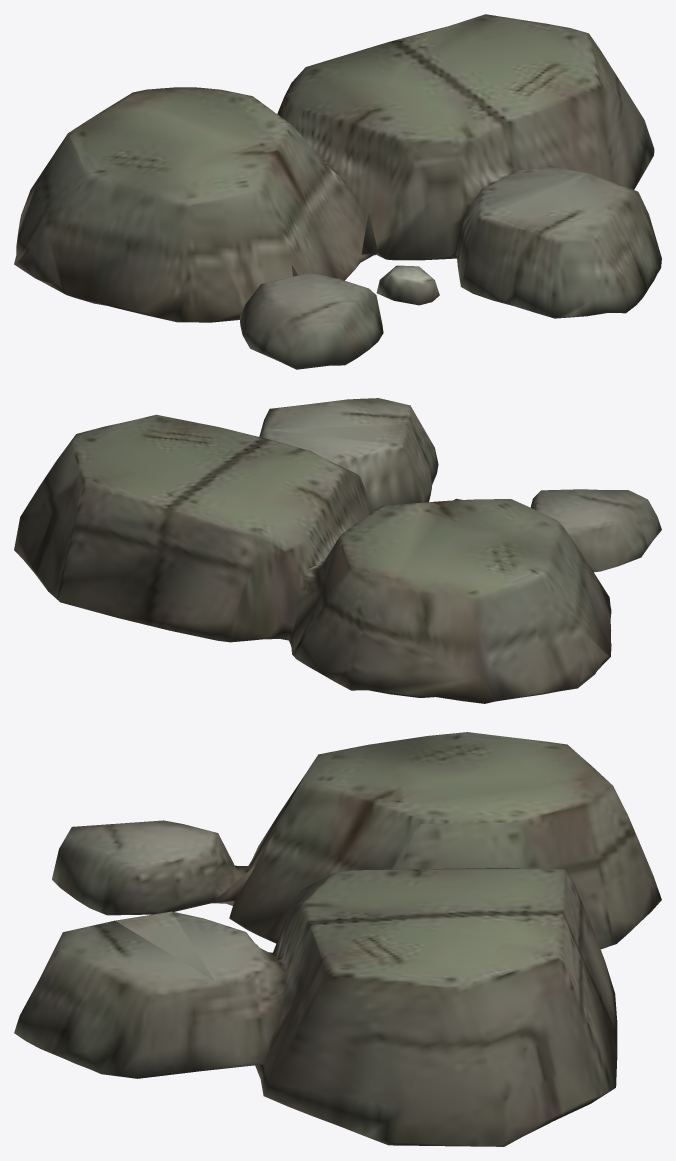
File: prop_rocks_small.glb
3 views of the same model, one above another, from view 1: azimuth 30°, elevation 25°; view 2: azimuth 150°, elevation 25°; view 3: azimuth 270°, elevation 25° (orthographic). The views are drawn at different scales.
Parts seen in each view (by area): view 1: Mesh_0; view 2: Mesh_0; view 3: Mesh_0.
Boxes of the visible parts, x1=… form: Mesh_0: x1=14, y1=14, x2=661, y2=369; Mesh_0: x1=14, y1=398, x2=661, y2=703; Mesh_0: x1=14, y1=732, x2=661, y2=1146.
Size of the model in its own units: 1.99 by 0.3747 by 1.59.
1 material, 1 textured.
